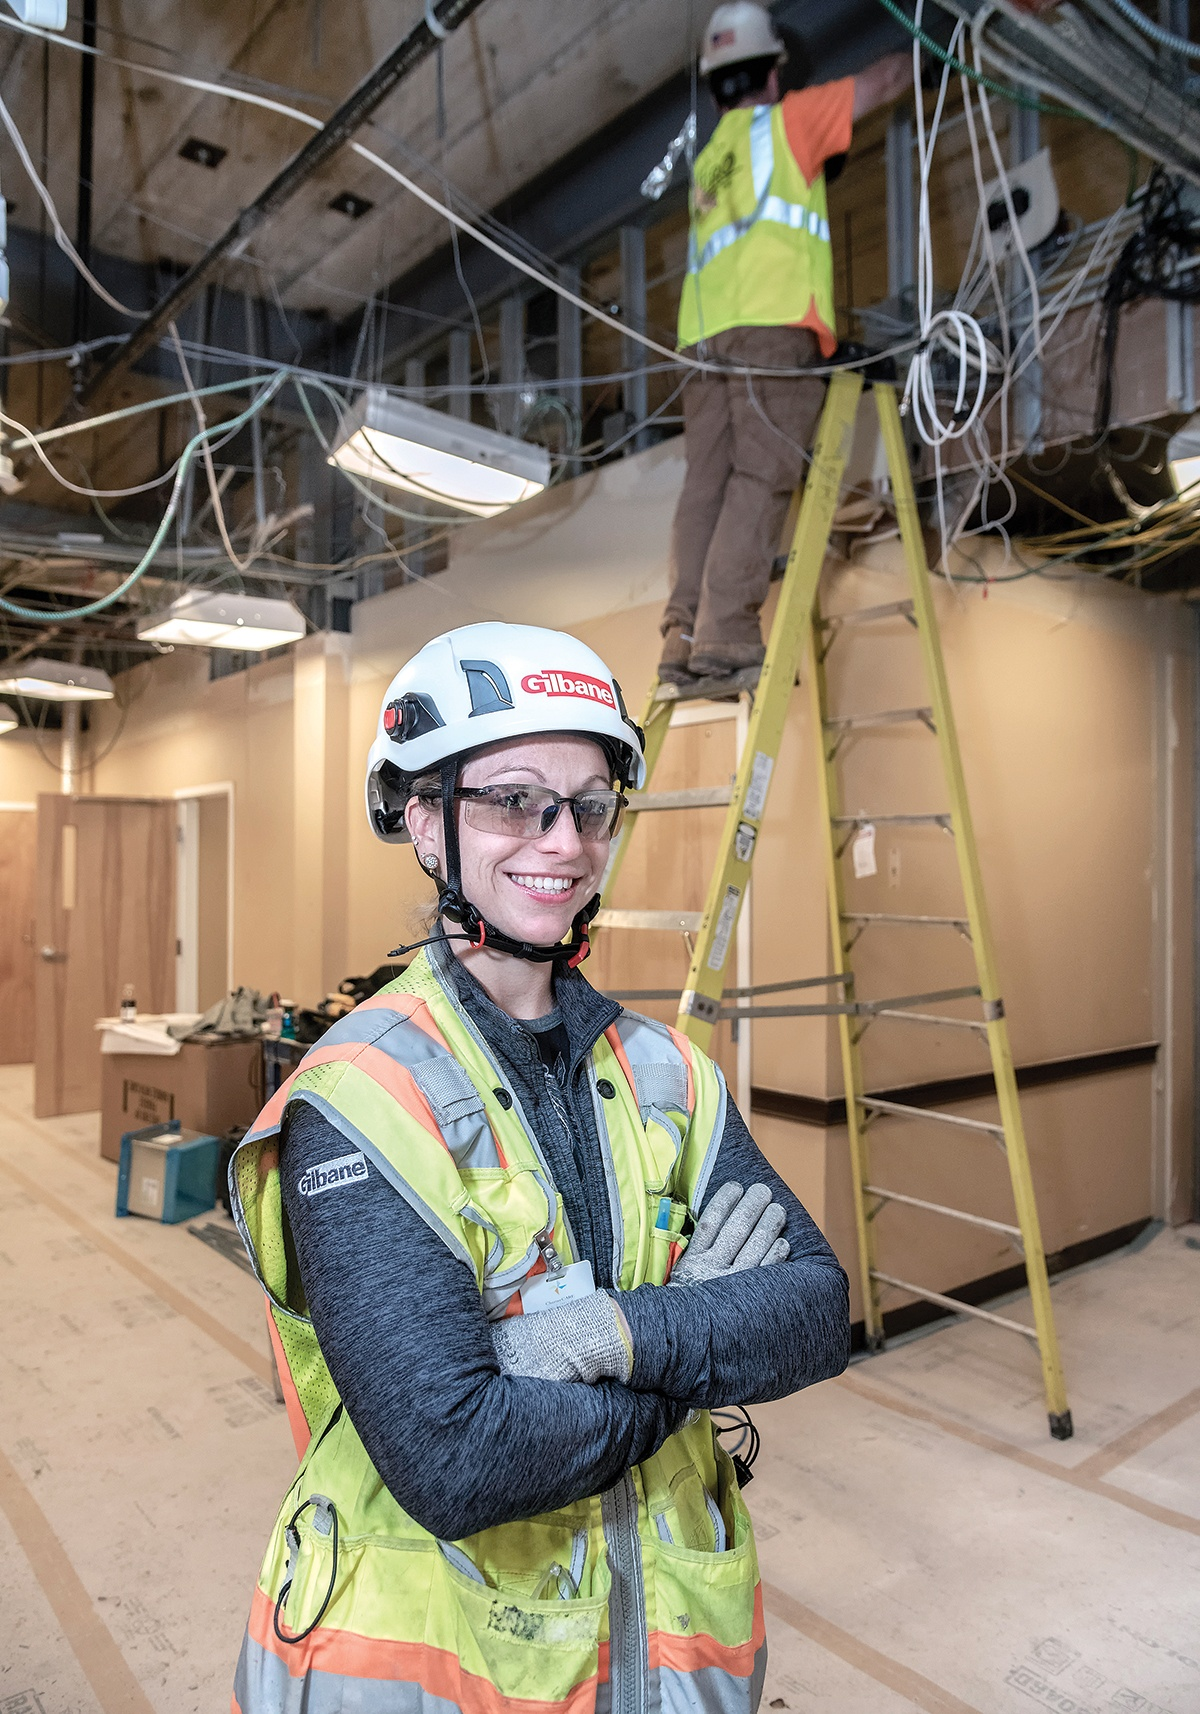without_mask: (393, 690, 645, 962)
